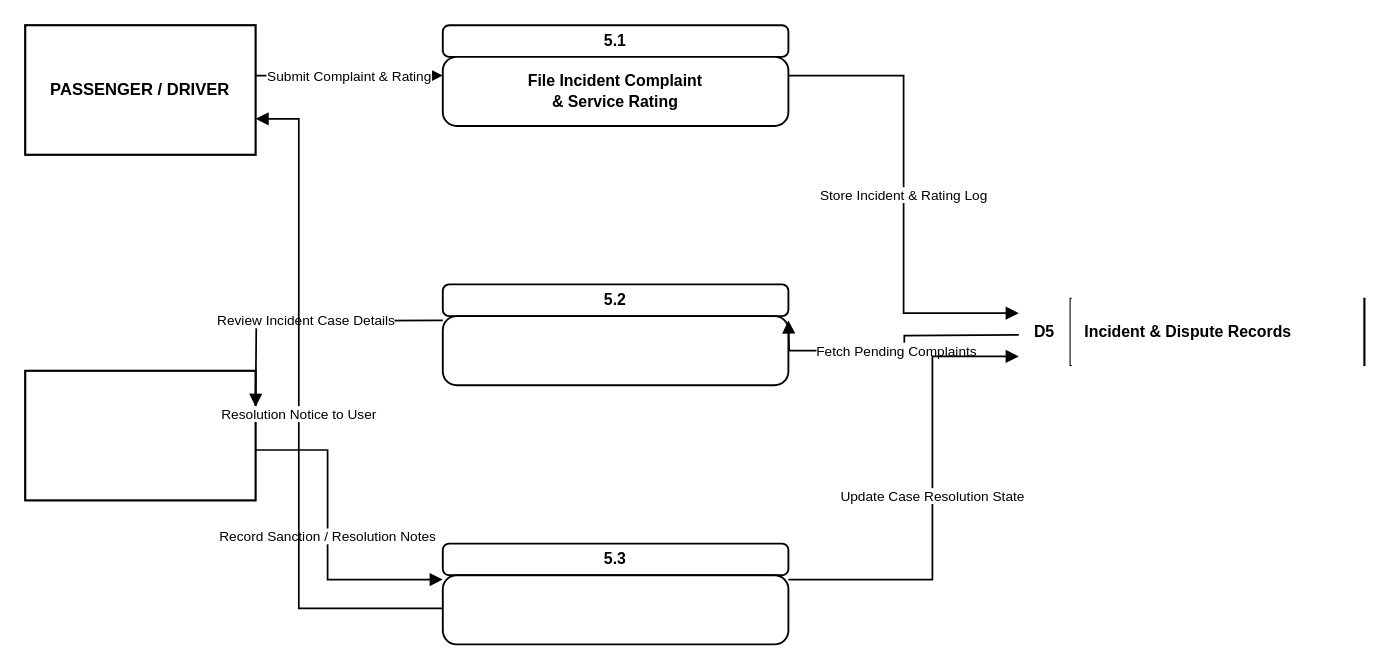
Some shapes in this 1391 by 671 pixel diagram are drawn without their labels. The shapes that lost their labels are listed below. From the top down, each one's box as (x1, y1, x2, y2) in pixels, then its label:
(441, 314, 789, 385): Review & Moderate Incident Evidence
(23, 369, 256, 501): TODA ADMINISTRATOR
(441, 574, 789, 645): Issue Administrative Sanction / Resolution
